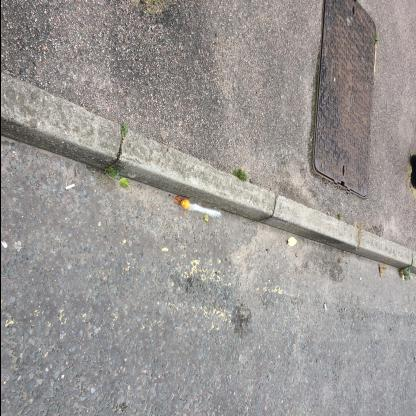plastik: (180, 197, 222, 223)
